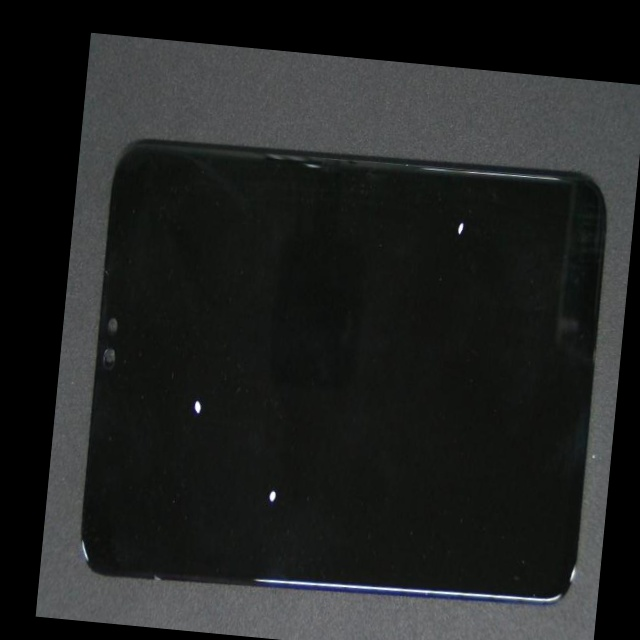stain: (160, 256, 402, 640), (272, 117, 640, 298), (123, 198, 284, 558)
